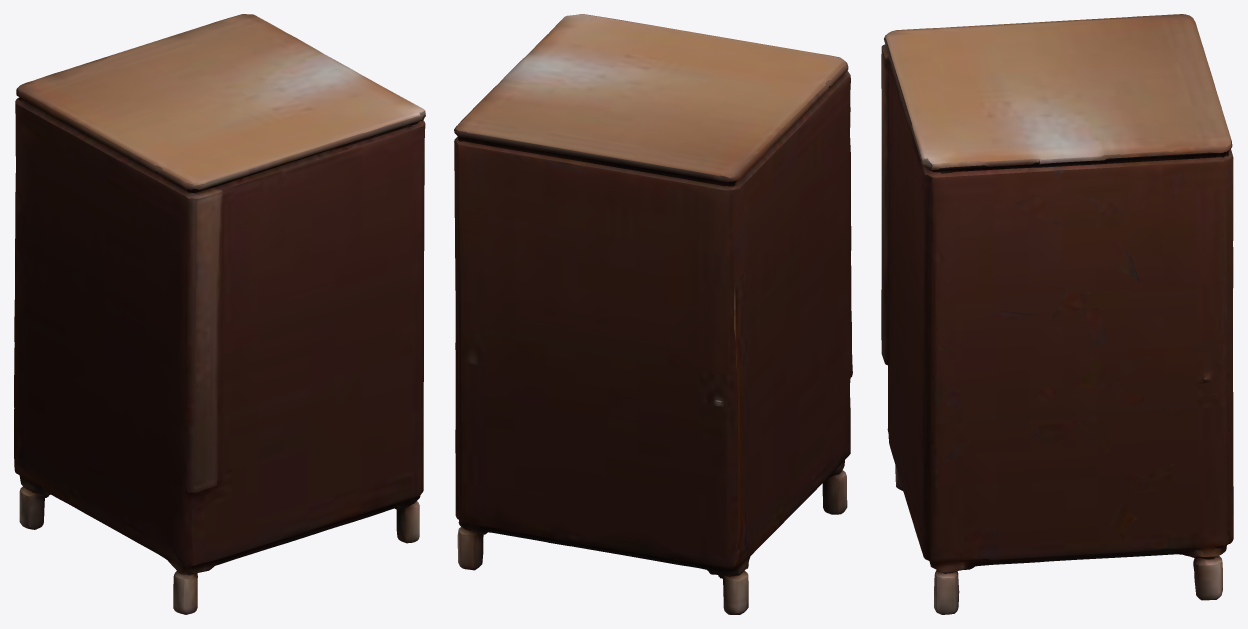
The picture shows the model from 3 angles, left to right: view 1: azimuth 30°, elevation 25°; view 2: azimuth 150°, elevation 25°; view 3: azimuth 270°, elevation 25°; orthographic projection. The views are drawn at different scales.
Parts seen in each view (by area): view 1: world; view 2: world; view 3: world.
Part boxes in pixels (x1,y1,x2,y2): world: (14,14,425,614); world: (454,14,852,614); world: (881,14,1233,614).
Bounding box in the file's own units: 0.276 × 0.3939 × 0.2751.
1 material, 1 textured.
